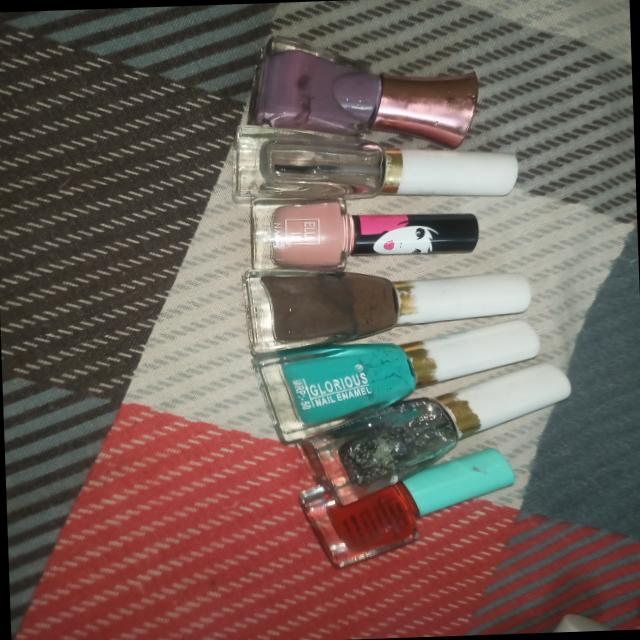glass: (266, 344, 598, 507), (223, 305, 576, 442), (288, 434, 537, 576), (220, 256, 550, 352), (241, 35, 489, 152), (221, 127, 540, 206), (232, 199, 506, 269)
